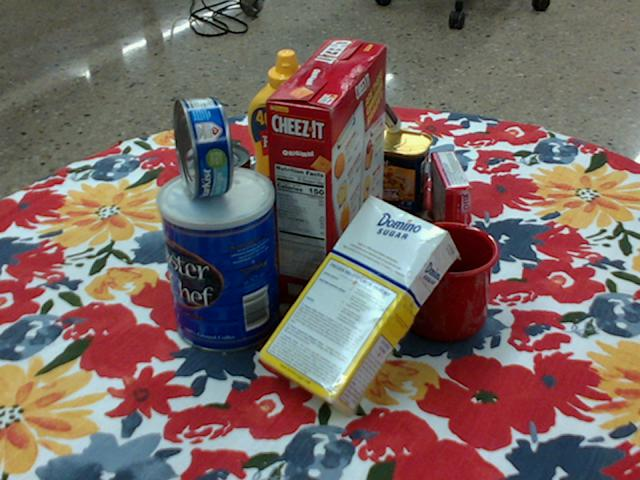cracker_box: (264, 39, 388, 312)
gelatin_box: (432, 149, 472, 246)
large_marker: (360, 79, 402, 131)
master_chef_can: (158, 167, 280, 355)
mug: (370, 220, 499, 341)
mustard_bottle: (248, 50, 337, 224)
potted_meat_can: (340, 123, 434, 216)
sugar_box: (257, 196, 459, 421)
tomato_soup_can: (185, 142, 257, 255)
tuna_fish_can: (172, 96, 233, 198)
